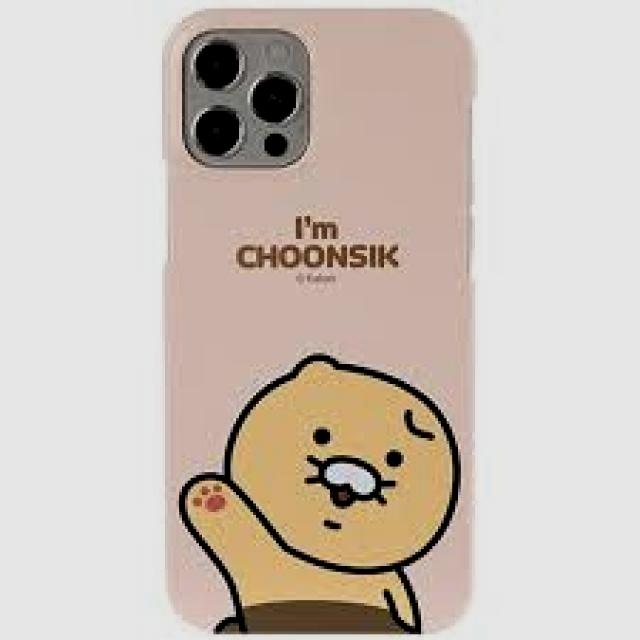lens: (184, 29, 309, 164)
phone: (157, 6, 475, 638)
